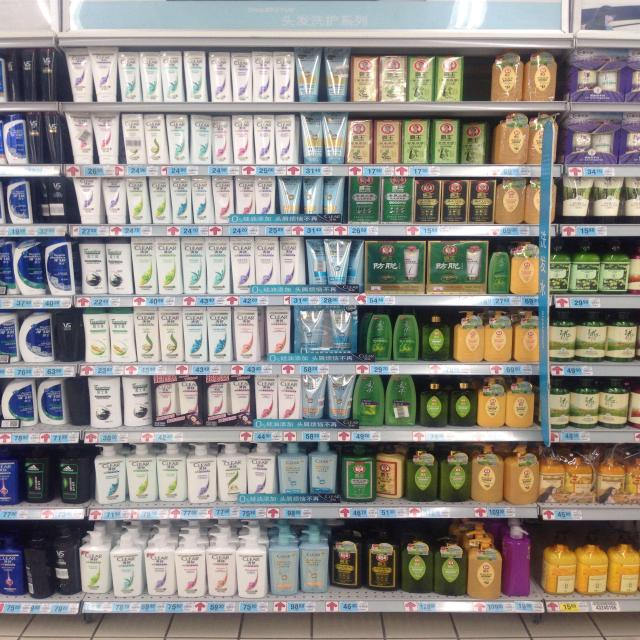empty_space: (466, 56, 486, 97)
